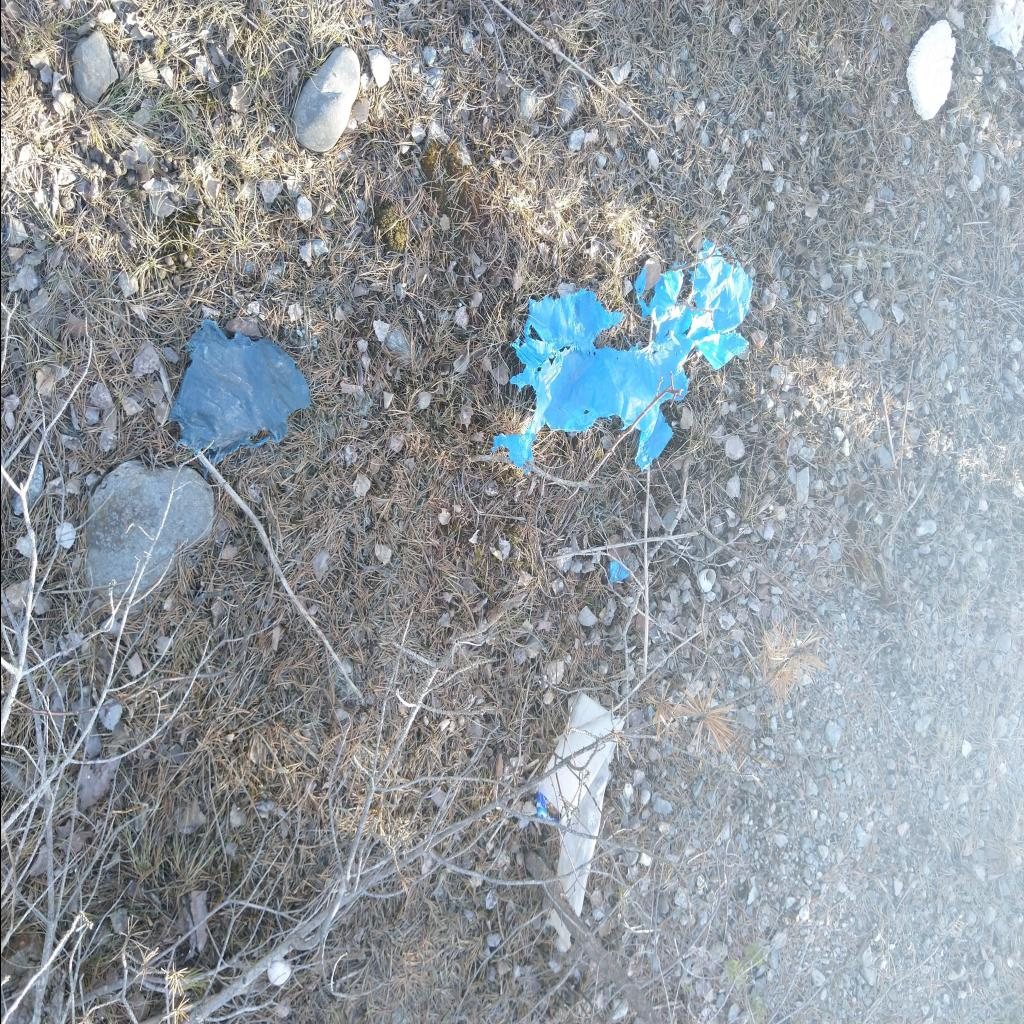Plastic film: (493, 238, 751, 472), (168, 319, 310, 467), (534, 692, 622, 918), (548, 910, 570, 950), (536, 793, 558, 822), (608, 562, 628, 583)
Styrofoam piece: (905, 20, 955, 121)
